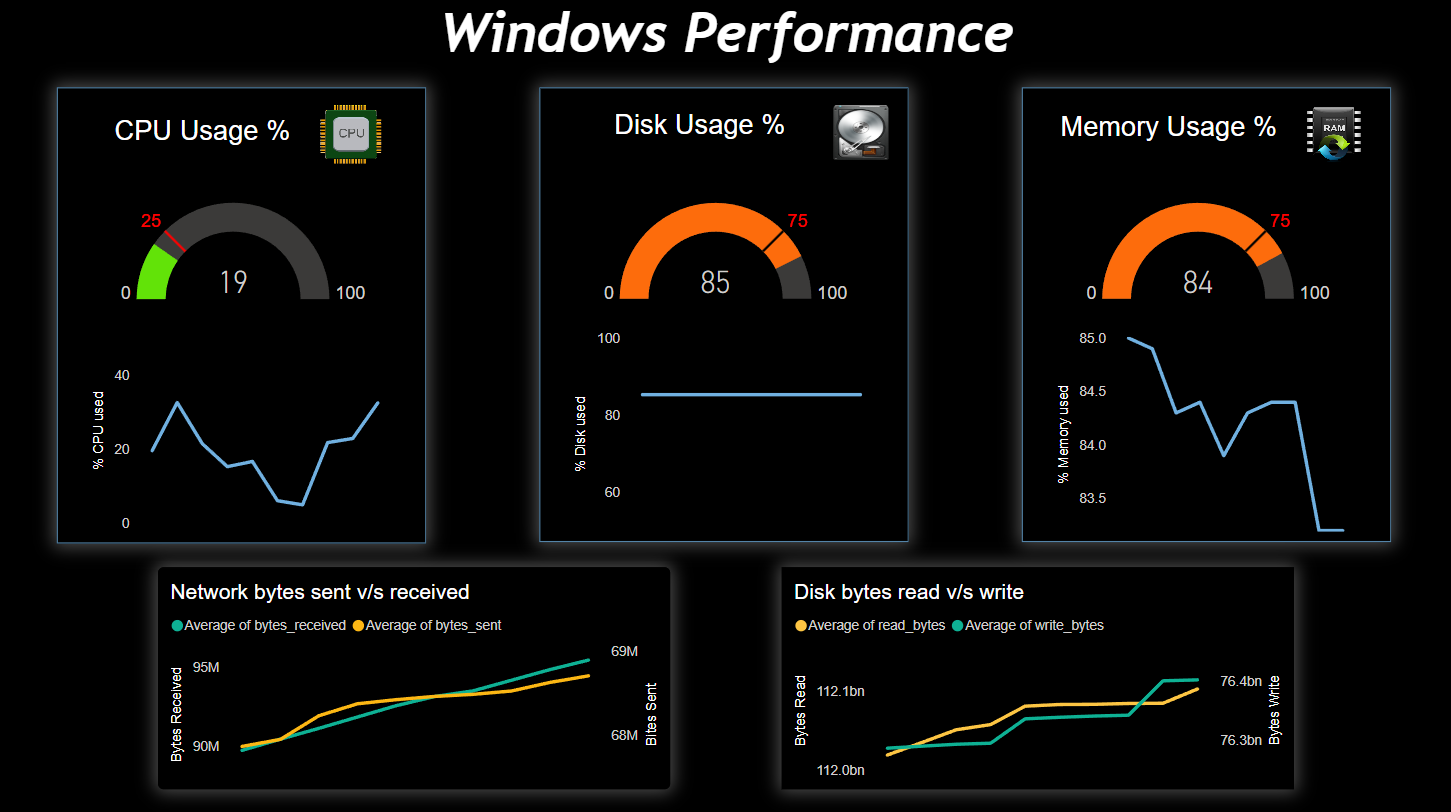

Layout of this report page (visuals, bound fields, positions):
{"tool":"powerbi","page":{"name":"Page 1","canvas":[1280,720],"ordinal":0},"visuals":[{"type":"lineChart","fields":{"Y":["Avg(UsageData.bytes_received)"],"Y2":["Avg(UsageData.bytes_sent)"],"Category":["UsageData.id"]},"box":[38.4,517.3,550.3,196.2],"z":3000},{"type":"lineChart","fields":{"Category":["UsageData.id"],"Y":["Avg(UsageData.read_bytes)"],"Y2":["Avg(UsageData.write_bytes)"]},"box":[680.6,510.5,550.3,209.9],"z":4000},{"type":"lineChart","fields":{"Category":["UsageData.id"],"Y":["Sum(UsageData.cpu_percent)"]},"box":[20.6,268.1,380,218.2],"z":5000},{"type":"lineChart","fields":{"Category":["UsageData.id"],"Y":["Sum(UsageData.memory_percent)"]},"box":[435.7,268.4,380,218.2],"z":6000},{"type":"gauge","title":"CPU Usage % ","fields":{"Y":["Avg(UsageData.cpu_percent)"]},"box":[20.6,82.3,380,149.6],"z":7000},{"type":"gauge","title":"Memory Usage %","fields":{"Y":["Avg(UsageData.memory_percent)"]},"box":[435.7,83.7,380,149.6],"z":8000},{"type":"lineChart","fields":{"Category":["UsageData.id"],"Y":["Sum(UsageData.disk_percent)"]},"box":[850.9,269.6,380,218.2],"z":9000},{"type":"gauge","title":"Disk Usage %","fields":{"Y":["Avg(UsageData.disk_percent)"]},"box":[850.9,82.3,380,149.6],"z":10000}]}

Visuals, with their boxes in screenshot pixels (x1, y1, x2, y2), scaled from the page's 1280x720 canvas onto the 1451x812 screenshot:
lineChart - Avg(UsageData.bytes_received) x Avg(UsageData.bytes_sent): detection(44, 583, 667, 805)
lineChart - UsageData.id x Avg(UsageData.read_bytes): detection(772, 576, 1395, 811)
lineChart - UsageData.id x Sum(UsageData.cpu_percent): detection(23, 302, 454, 548)
lineChart - UsageData.id x Sum(UsageData.memory_percent): detection(494, 303, 925, 549)
"CPU Usage % " gauge: detection(23, 93, 454, 262)
"Memory Usage %" gauge: detection(494, 94, 925, 263)
lineChart - UsageData.id x Sum(UsageData.disk_percent): detection(965, 304, 1395, 550)
"Disk Usage %" gauge: detection(965, 93, 1395, 262)
